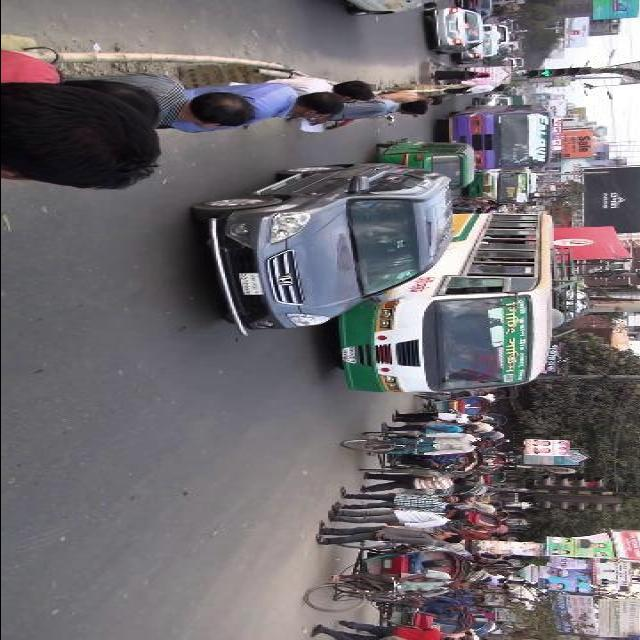bus: (330, 206, 576, 396), (450, 100, 558, 173), (464, 169, 544, 203)
car: (183, 161, 459, 335), (423, 3, 489, 56)
motorcycle: (300, 539, 480, 615), (340, 427, 498, 475), (364, 596, 476, 636), (370, 137, 482, 164), (414, 391, 494, 414), (459, 494, 505, 532), (471, 613, 501, 636), (476, 470, 508, 485), (484, 411, 508, 426)
